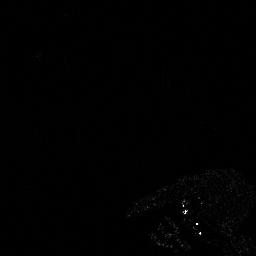ship: (179, 197, 201, 236)
